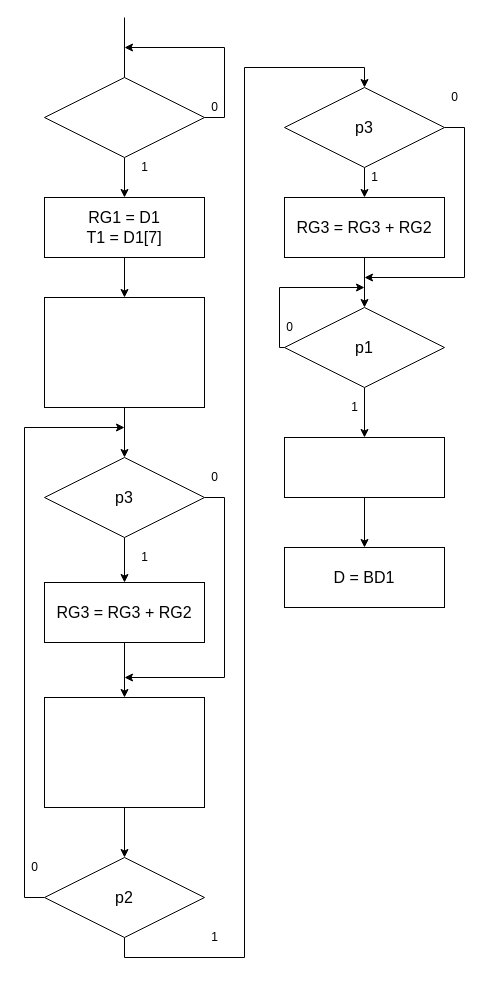
The diagram is 490 pixels wide and 983 high, and some of its shapes have lost their labels. Here are the shapes that lost their labels. From the top down, the centre of each, then its label:
At [124,117]: "p0".
At [124,352]: "RG2 = D2 T2 = D2[7] CT1 = 0001 RG3 = 0".
At [364,467]: "D = BD2".
At [124,752]: "RG1 = RG1[12..0].0 RG3 = RG3[12..0].0 CT1 = CT1 + 1".
